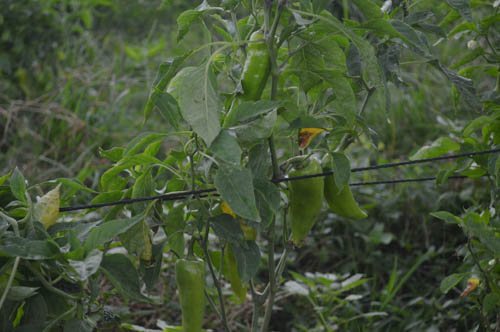ChiliPepper: (319, 157, 370, 218), (170, 262, 205, 327), (238, 34, 269, 101), (289, 167, 316, 242), (223, 227, 250, 300)
